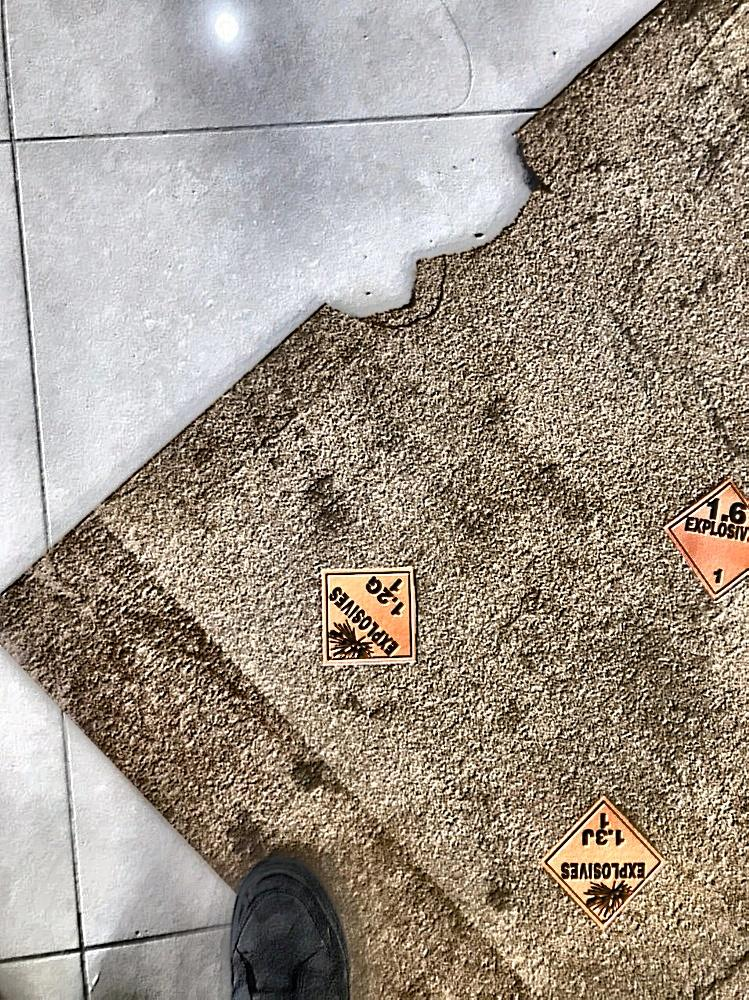explosive: (539, 794, 667, 935), (663, 481, 749, 604), (320, 567, 421, 668)
